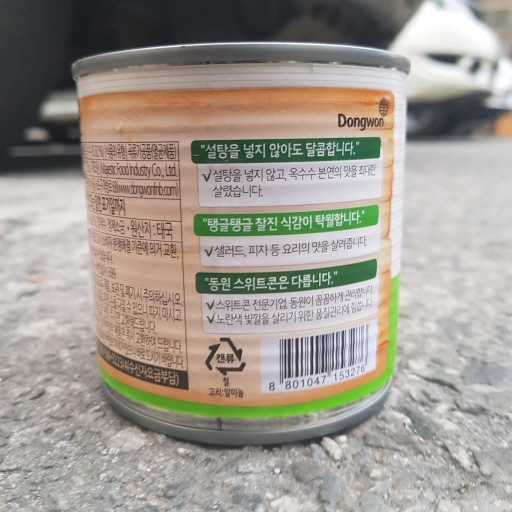Metal_1: (71, 38, 412, 443)
